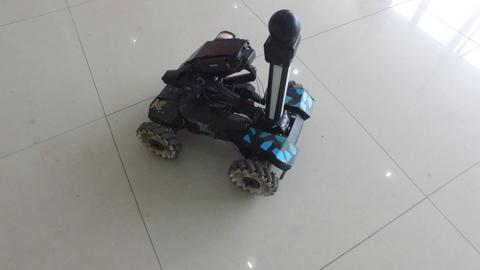chariot: (132, 25, 328, 204)
